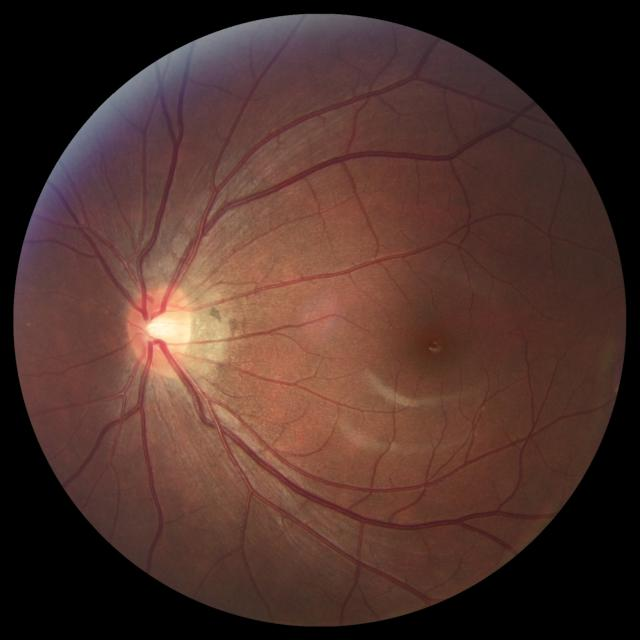OC: (145, 310, 179, 345)
OD: (126, 284, 196, 372)
